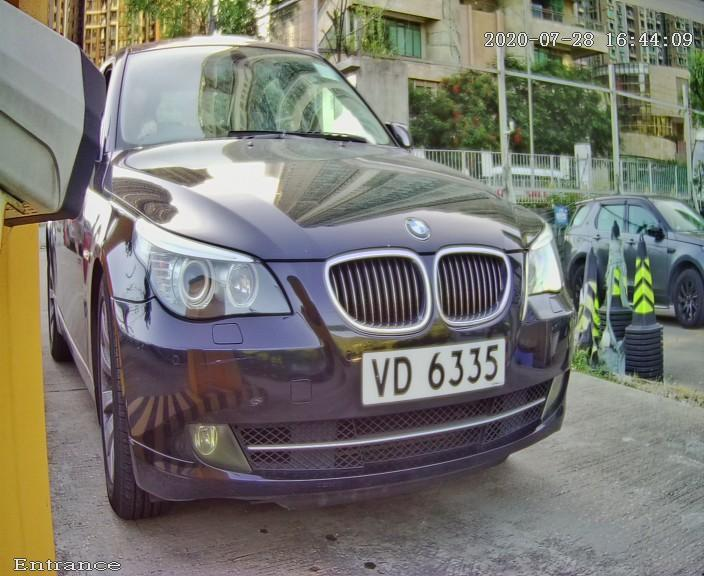privatecar: (47, 33, 585, 532)
